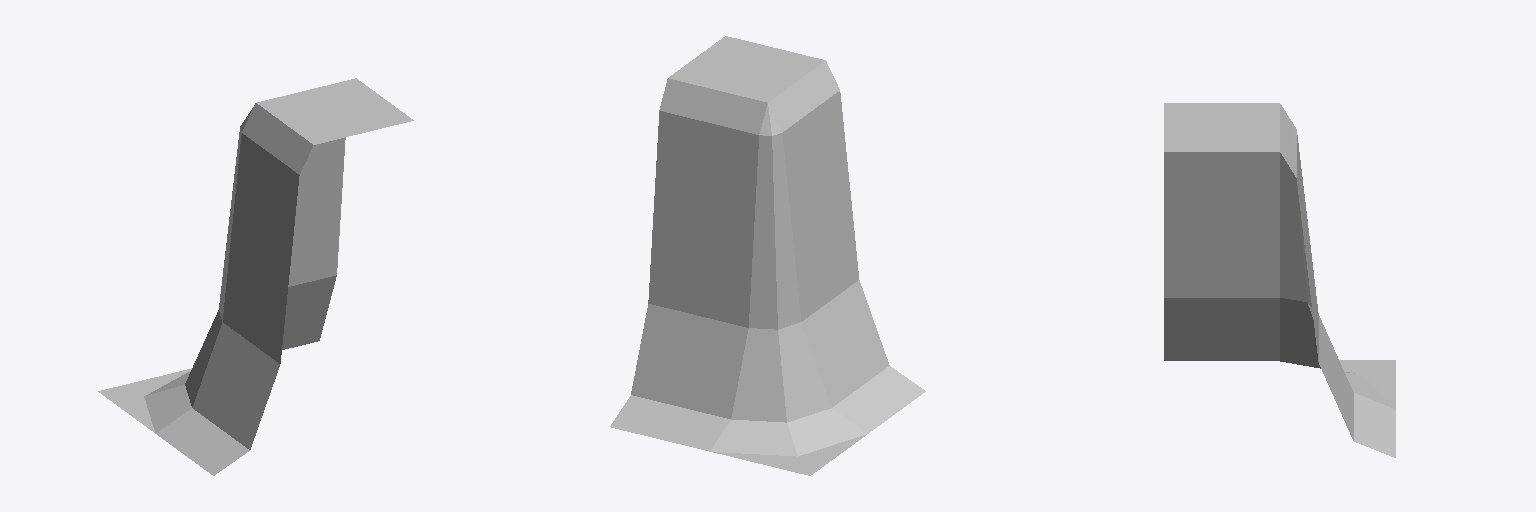
The model's file is wall_01.obj.
The picture shows the model from 3 angles: view 1: azimuth 30°, elevation 25°; view 2: azimuth 150°, elevation 25°; view 3: azimuth 270°, elevation 25°; orthographic projection.
Parts seen in each view (by area): view 1: wall_01_Cave_Wall_Outer.003; view 2: wall_01_Cave_Wall_Outer.003; view 3: wall_01_Cave_Wall_Outer.003.
Part boxes in pixels (x1,y1,x2,y2): wall_01_Cave_Wall_Outer.003: (98, 78, 413, 475); wall_01_Cave_Wall_Outer.003: (610, 36, 925, 475); wall_01_Cave_Wall_Outer.003: (1164, 103, 1395, 457).
Bounding box in the file's own units: 1 × 1.46 × 1.